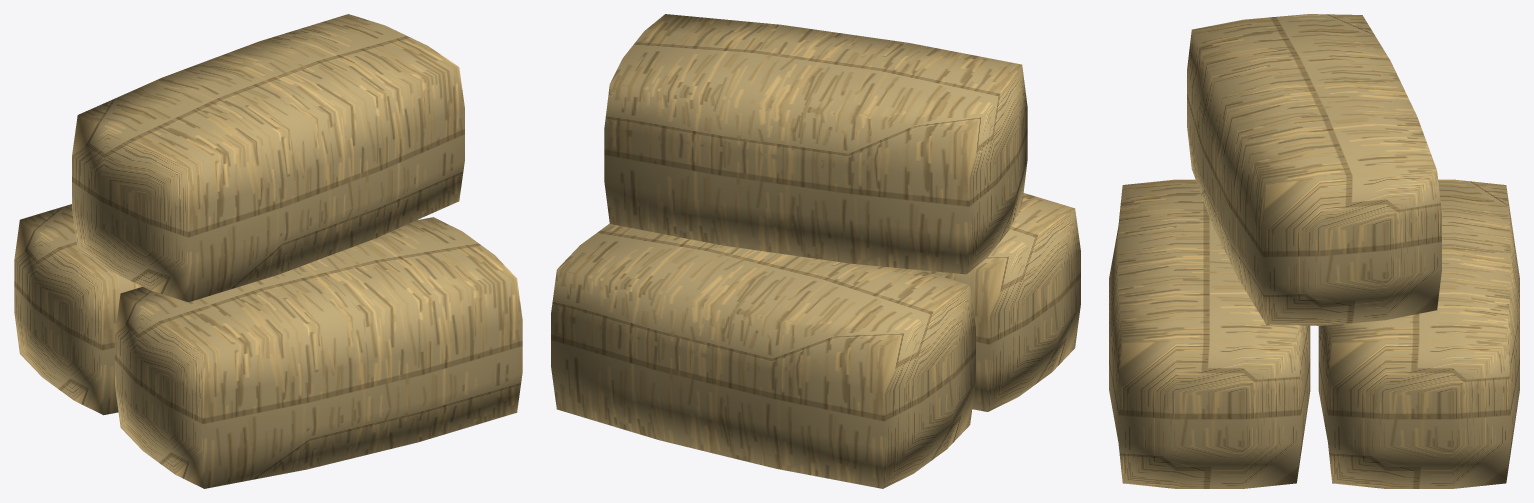
File: prop_hay_stacked_bales.glb
3 renders of one model, left to right at view 1: azimuth 30°, elevation 25°; view 2: azimuth 150°, elevation 25°; view 3: azimuth 270°, elevation 25°, orthographic. The views are drawn at different scales.
Parts seen in each view (by area): view 1: prop_hay_thatch; view 2: prop_hay_thatch; view 3: prop_hay_thatch.
Boxes of the visible parts, x1,y1,x2,y2 form: prop_hay_thatch: (14,14,522,488); prop_hay_thatch: (551,14,1080,488); prop_hay_thatch: (1109,14,1519,488).
Size of the model in its own units: 1.02 by 0.9 by 1.02.
Materials: 1 (1 with a texture image).
